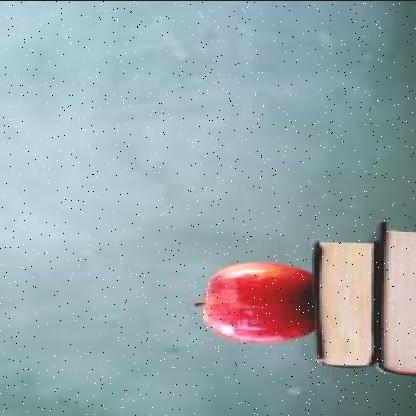apple: (203, 262, 312, 342)
